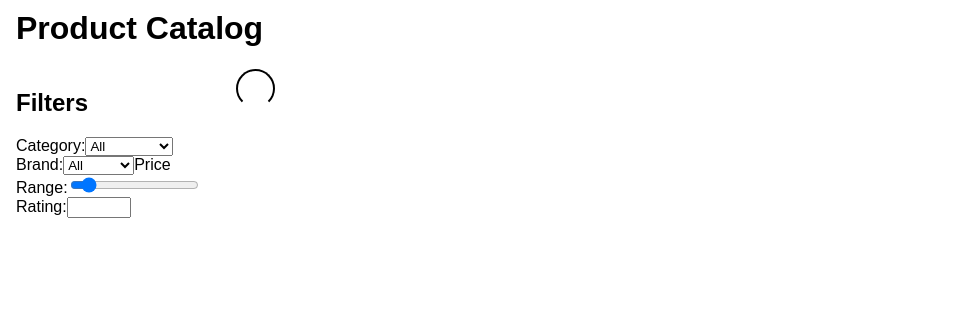
Product Catalog › filters products by category
Select "Electronics" in the dropdown labelled "Category:": (129, 146) [85,137,173,156]
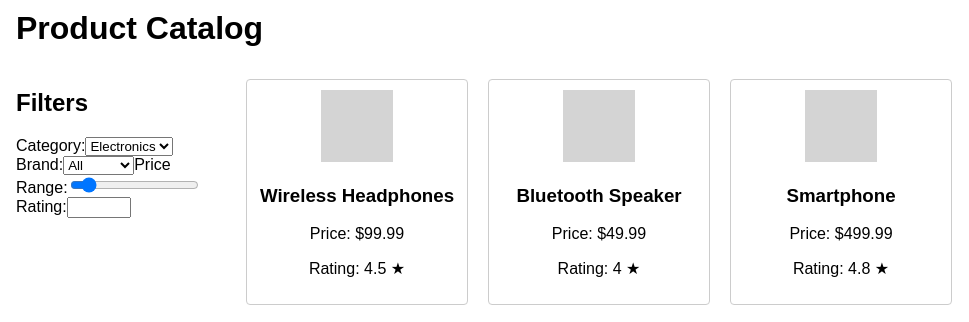
Expected: the number of headings "Wireless Headphones" is 3, [257,185,457,207]; [516,185,682,206]; [786,185,896,206]
